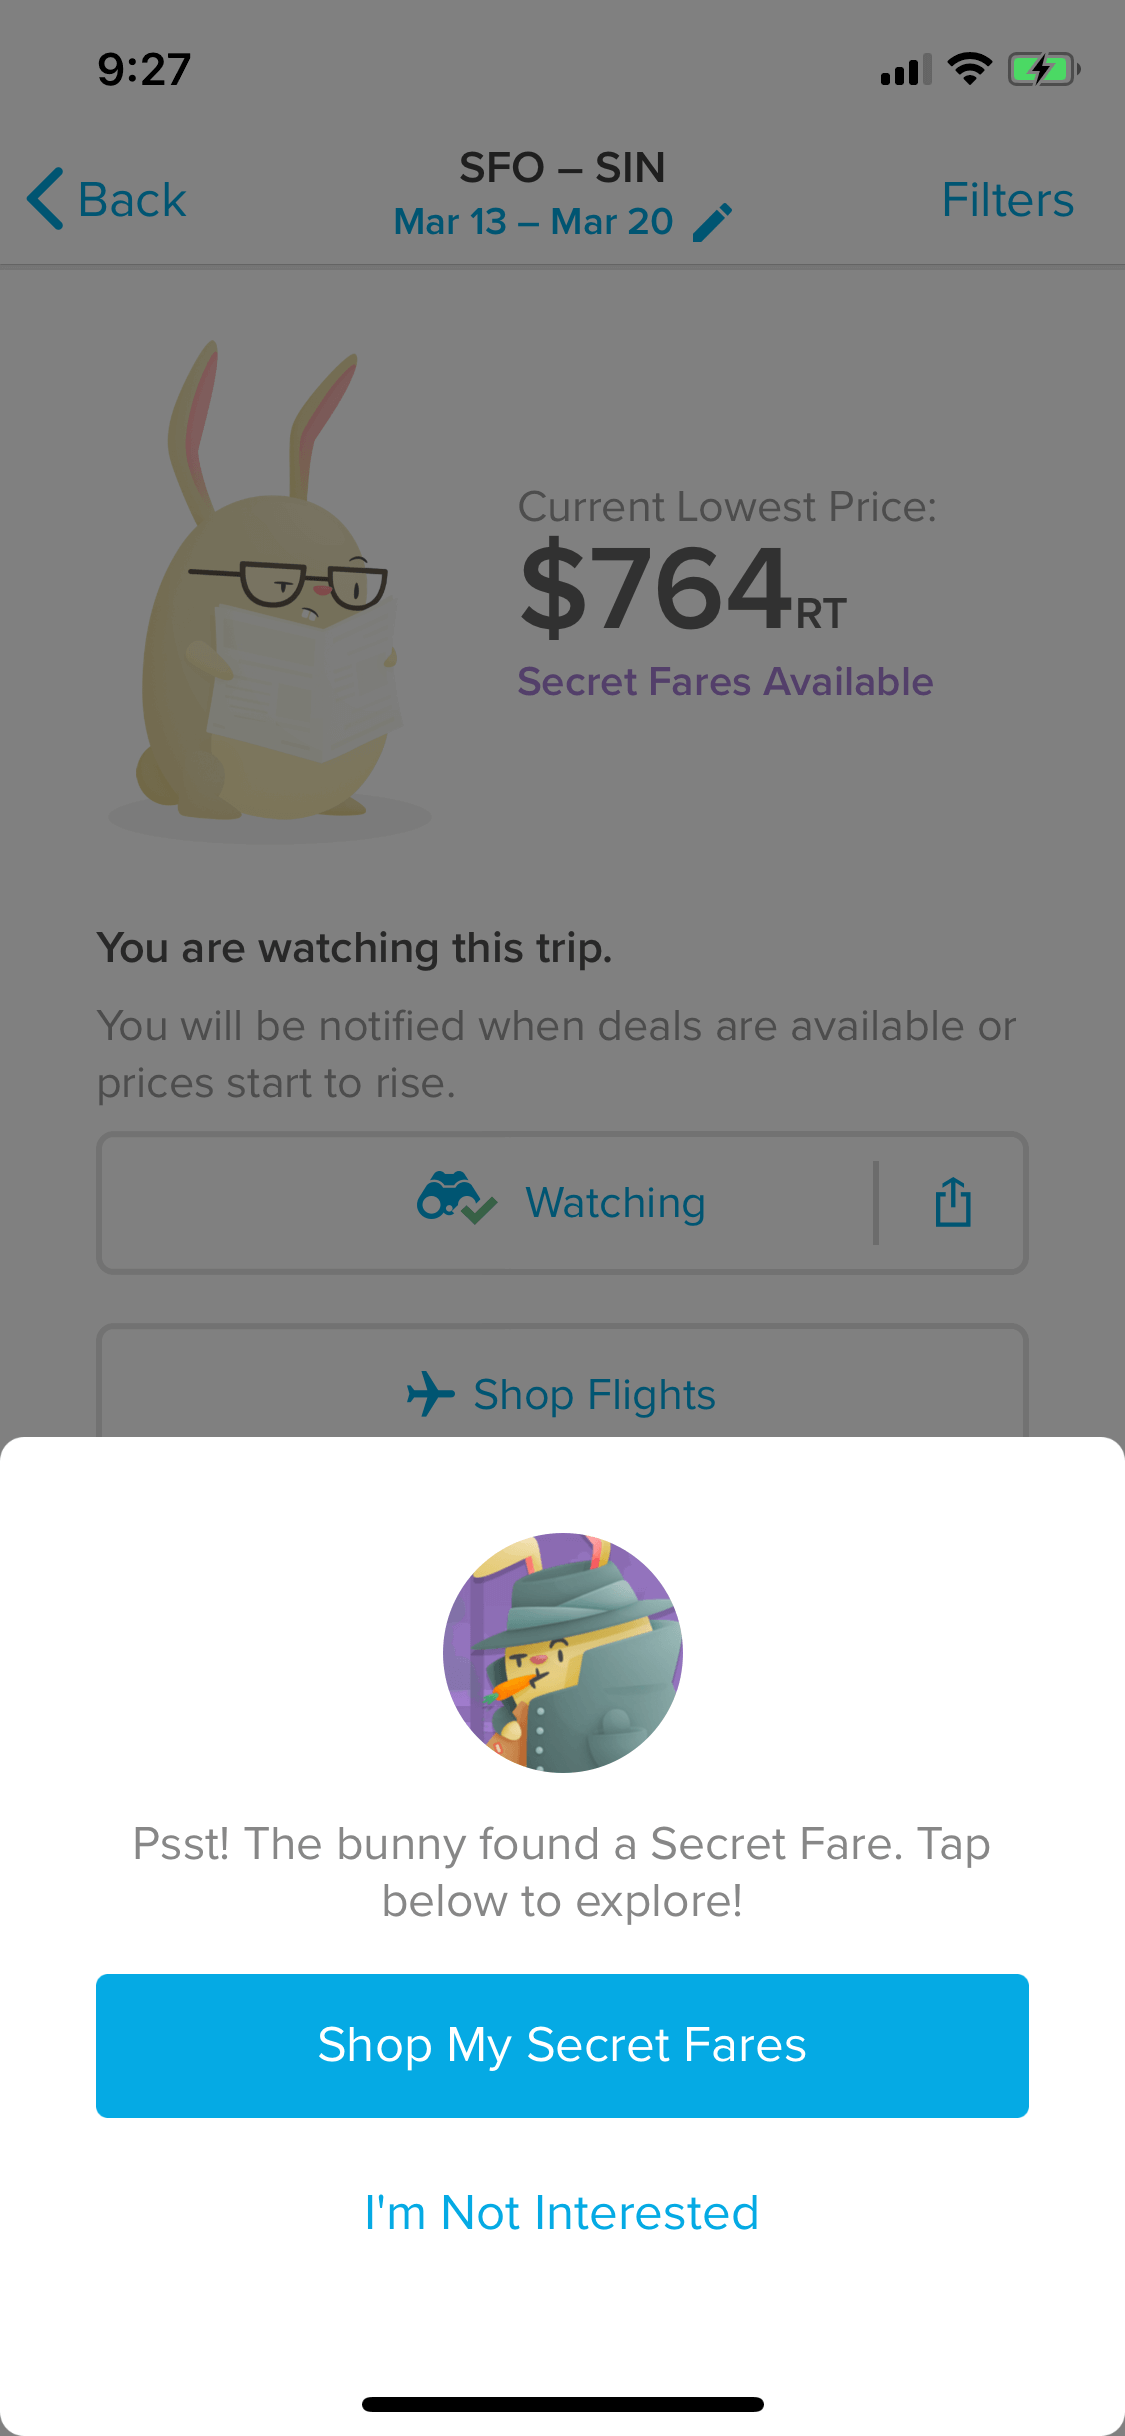Buttons: (79, 1950, 1046, 2135), (79, 1115, 1046, 1286), (87, 1322, 1043, 1434), (325, 2150, 796, 2278), (2, 110, 222, 259), (914, 115, 1113, 259), (671, 182, 763, 263)
